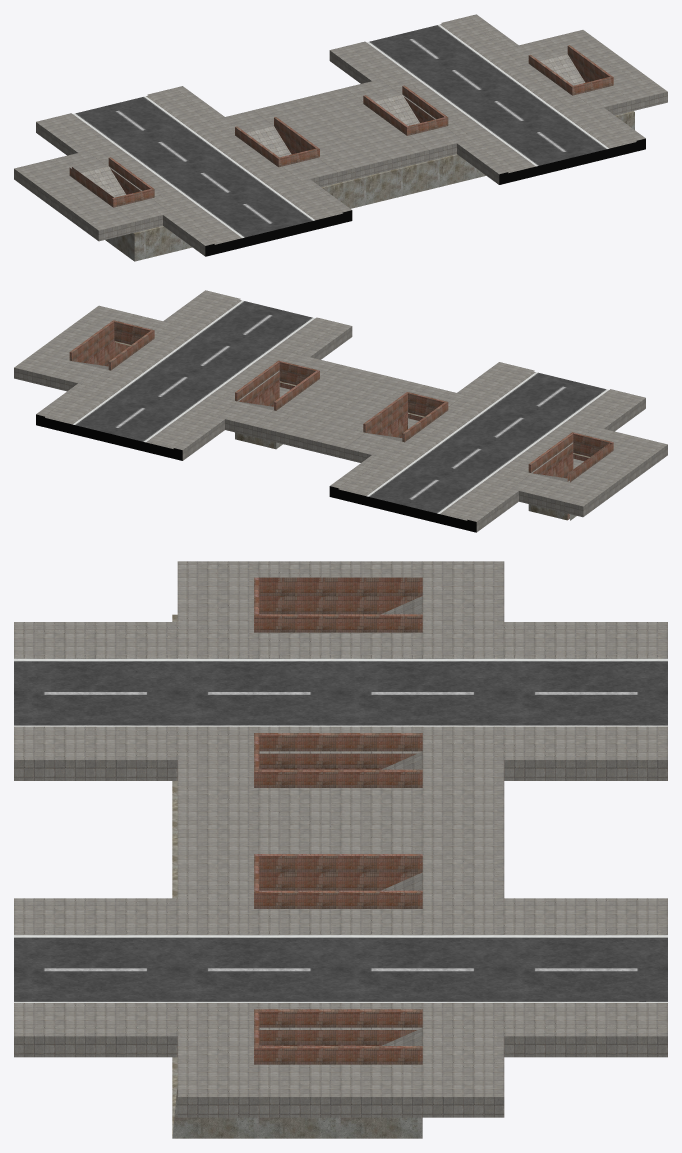
File: doubleUnderpass_2.fbx
3 renders of one model, top to bottom at view 1: azimuth 30°, elevation 25°; view 2: azimuth 150°, elevation 25°; view 3: azimuth 270°, elevation 25°, orthographic. The views are drawn at different scales.
Parts seen in each view (by area): view 1: materialA150, materialE150, materialC150, materialD150, materialB150; view 2: materialA150, materialE150, materialC150, materialB150, materialD150; view 3: materialA150, materialE150, materialC150, materialD150.
Boxes of the visible parts, x1=… form: materialA150: x1=14, y1=14, x2=667, y2=256; materialE150: x1=73, y1=24, x2=608, y2=238; materialC150: x1=69, y1=45, x2=613, y2=207; materialD150: x1=105, y1=111, x2=634, y2=261; materialB150: x1=205, y1=138, x2=645, y2=256; materialA150: x1=14, y1=290, x2=667, y2=532; materialE150: x1=73, y1=300, x2=608, y2=513; materialC150: x1=69, y1=320, x2=613, y2=519; materialB150: x1=36, y1=414, x2=476, y2=532; materialD150: x1=115, y1=341, x2=589, y2=520; materialA150: x1=14, y1=561, x2=667, y2=1117; materialE150: x1=14, y1=658, x2=667, y2=1002; materialC150: x1=254, y1=577, x2=422, y2=1064; materialD150: x1=172, y1=614, x2=422, y2=1138.
Size of the model in its own units: 99.2 by 7.8 by 51.2.
